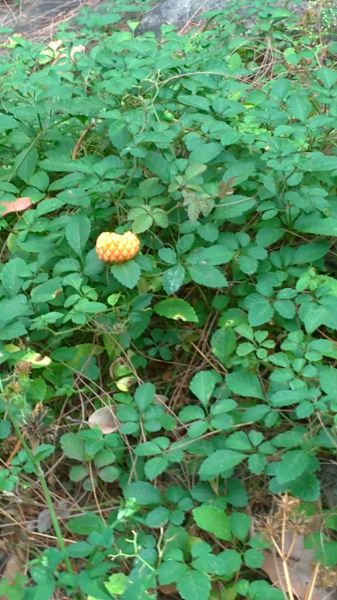eggs: (93, 225, 144, 270)
